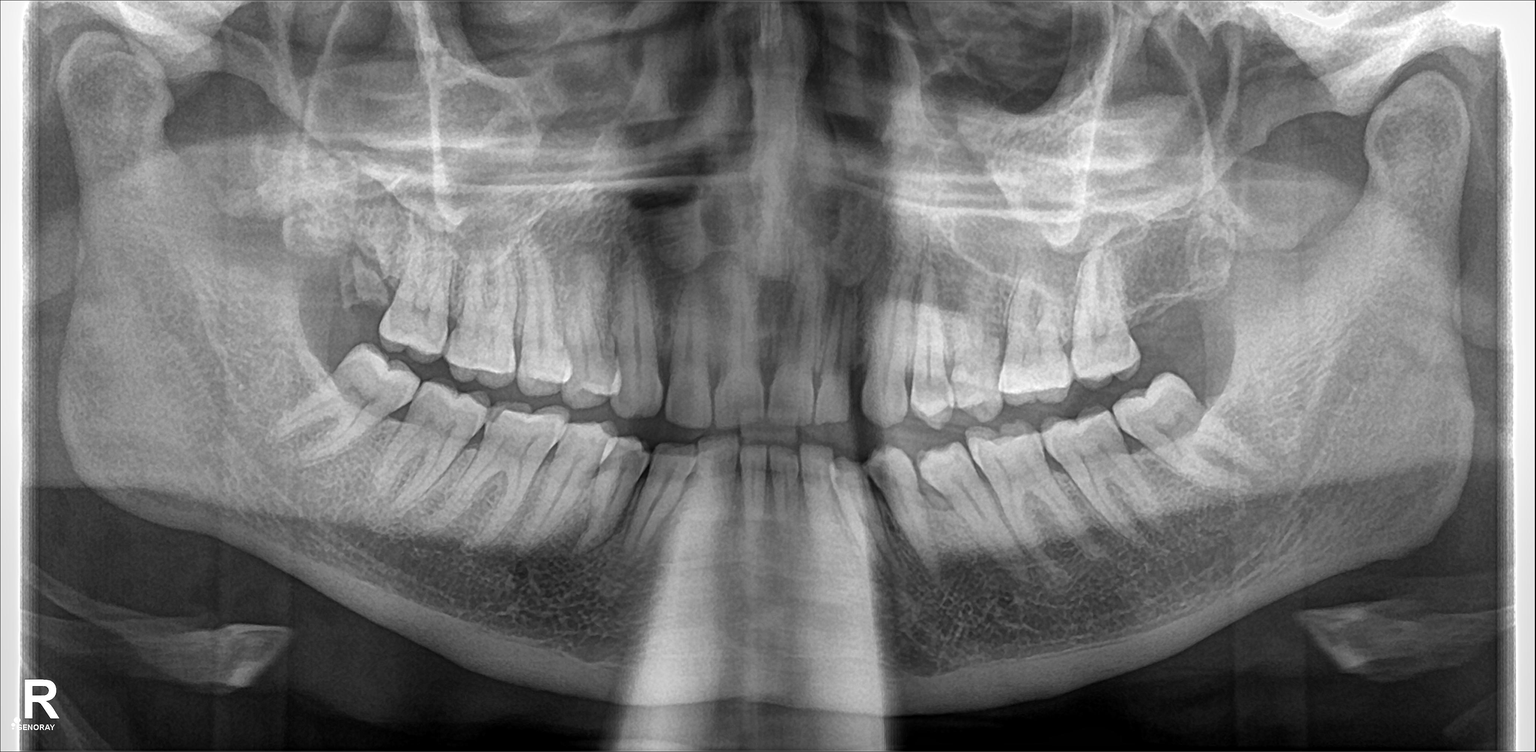Retained Root: (1121, 255, 1195, 371), (345, 242, 396, 313)
